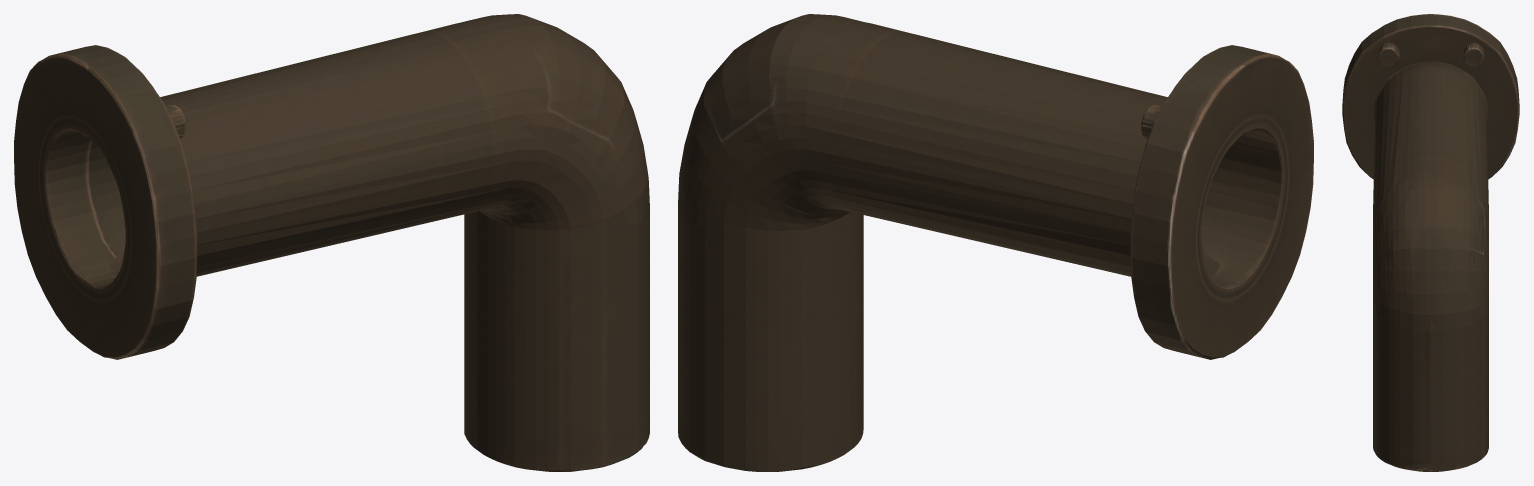
File: pipe2_elbow.glb
The picture shows the model from 3 angles, left to right: view 1: azimuth 30°, elevation 25°; view 2: azimuth 150°, elevation 25°; view 3: azimuth 270°, elevation 25°; orthographic projection. The views are drawn at different scales.
Size of the model in its own units: 1.91 by 1.59 by 0.865.
1 material, 1 textured.
